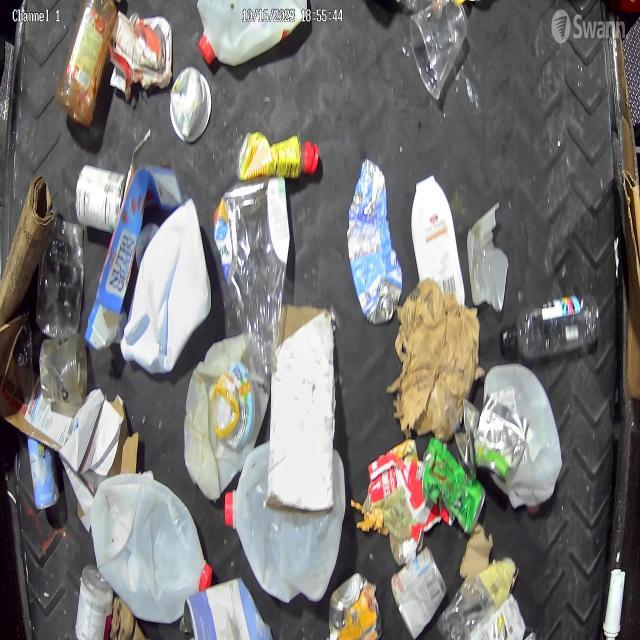can: (421, 436, 486, 535), (390, 544, 447, 640), (327, 570, 384, 640), (75, 165, 126, 235), (130, 19, 167, 72)
milk_jug: (225, 442, 346, 604), (90, 472, 212, 622), (120, 198, 211, 375), (184, 334, 270, 504), (483, 364, 562, 514), (196, 0, 308, 67)
plastic_bottle: (213, 177, 290, 376), (437, 556, 516, 640), (500, 294, 600, 360)
